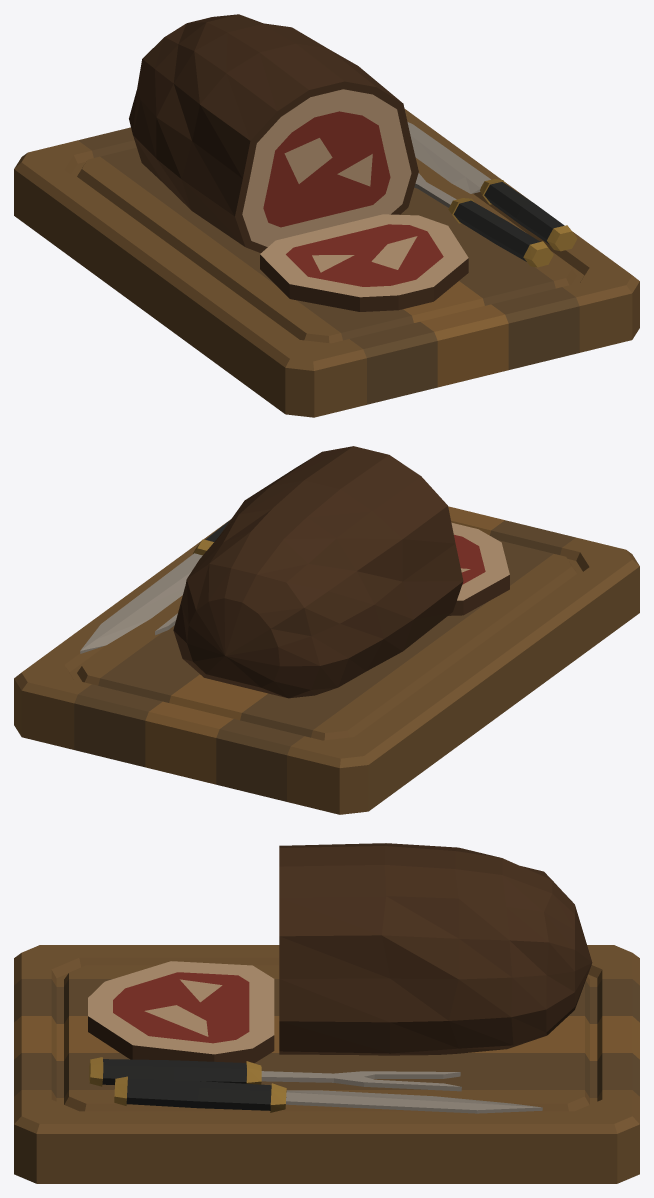
The model's file is carving-station-roast-4c485e.glb.
3 views of the same model, one above another, from view 1: azimuth 30°, elevation 25°; view 2: azimuth 150°, elevation 25°; view 3: azimuth 270°, elevation 25° (orthographic). The views are drawn at different scales.
Visible parts, largest first — view 1: station, slice-1-mesh, knife-mesh, fork-mesh; view 2: station, slice-1-mesh, knife-mesh; view 3: station, slice-1-mesh, knife-mesh, fork-mesh.
Part boxes in pixels (<box>): station: <box>14,14,639,417</box>; slice-1-mesh: <box>260,214,468,311</box>; knife-mesh: <box>407,122,577,251</box>; fork-mesh: <box>414,173,553,267</box>; station: <box>14,446,639,814</box>; slice-1-mesh: <box>448,522,509,615</box>; knife-mesh: <box>80,520,230,653</box>; station: <box>14,843,639,1183</box>; slice-1-mesh: <box>88,961,274,1063</box>; knife-mesh: <box>114,1076,542,1113</box>; fork-mesh: <box>89,1057,461,1091</box>.
Bounding box in the file's own units: 0.35 × 0.1976 × 0.5.
